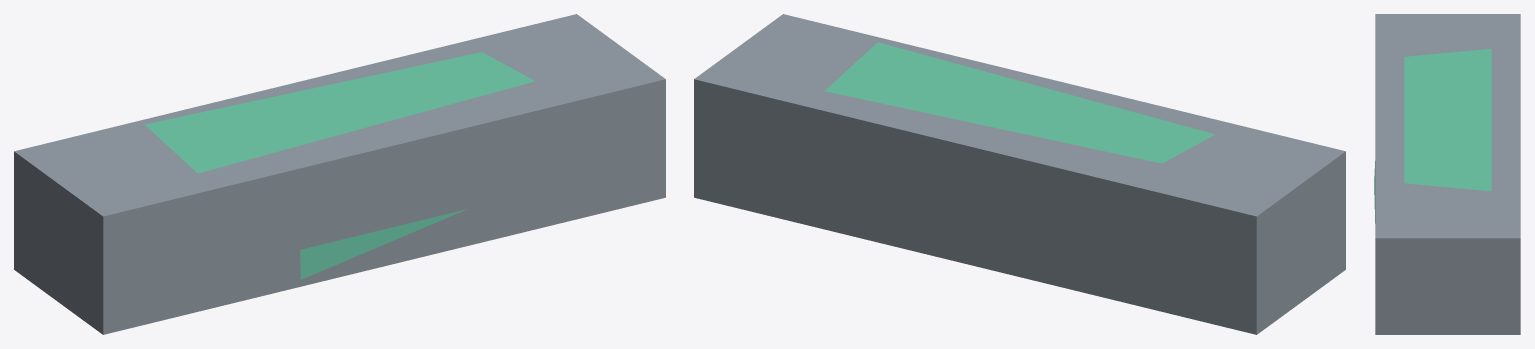
File: CO_XuanwuCruiser_LOD1.glb
The picture shows the model from 3 angles, left to right: view 1: azimuth 30°, elevation 25°; view 2: azimuth 150°, elevation 25°; view 3: azimuth 270°, elevation 25°; orthographic projection. The views are drawn at different scales.
Parts seen in each view (by area): view 1: EntranceGate; view 2: EntranceGate; view 3: EntranceGate.
Part boxes in pixels (box(x1,y1,x2,y2)): EntranceGate: box(14, 14, 665, 334); EntranceGate: box(694, 14, 1345, 334); EntranceGate: box(1374, 14, 1520, 334).
Bounding box in the file's own units: 1750 × 389 × 483.
